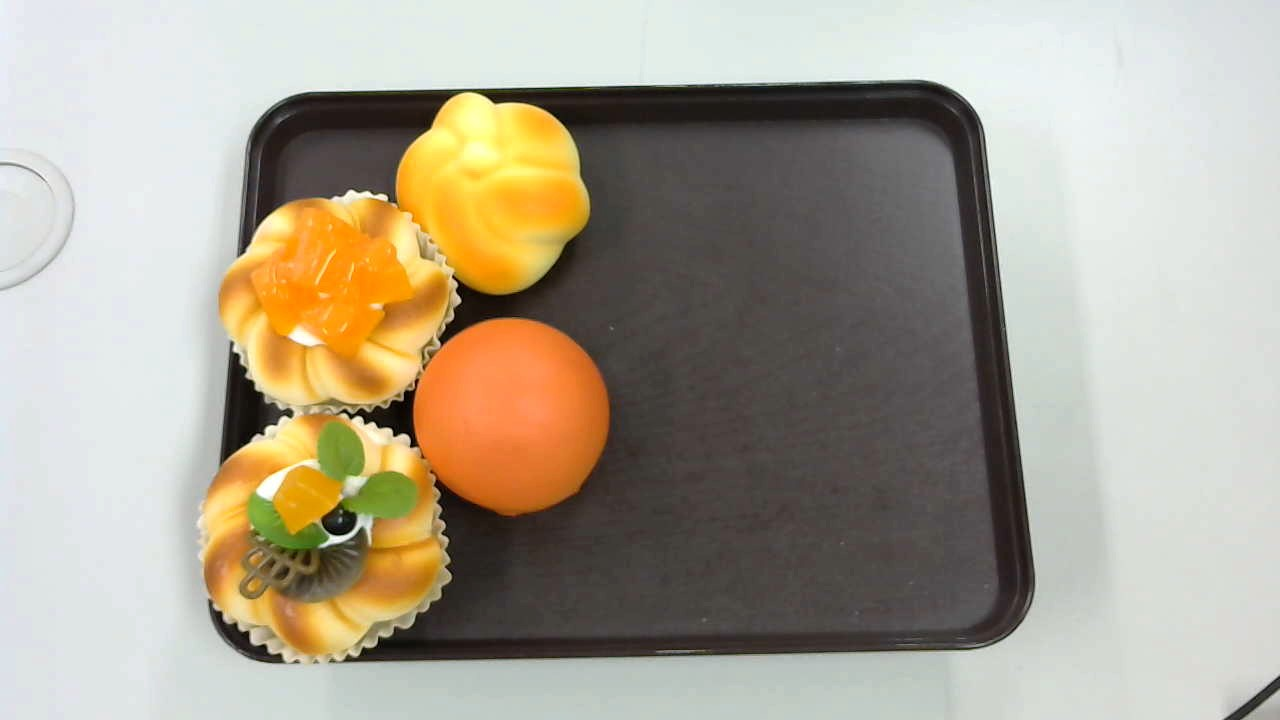bun: (412, 318, 610, 517)
fruit tart: (199, 413, 449, 663)
mango tart: (220, 191, 463, 410)
twist bread: (394, 93, 592, 296)
